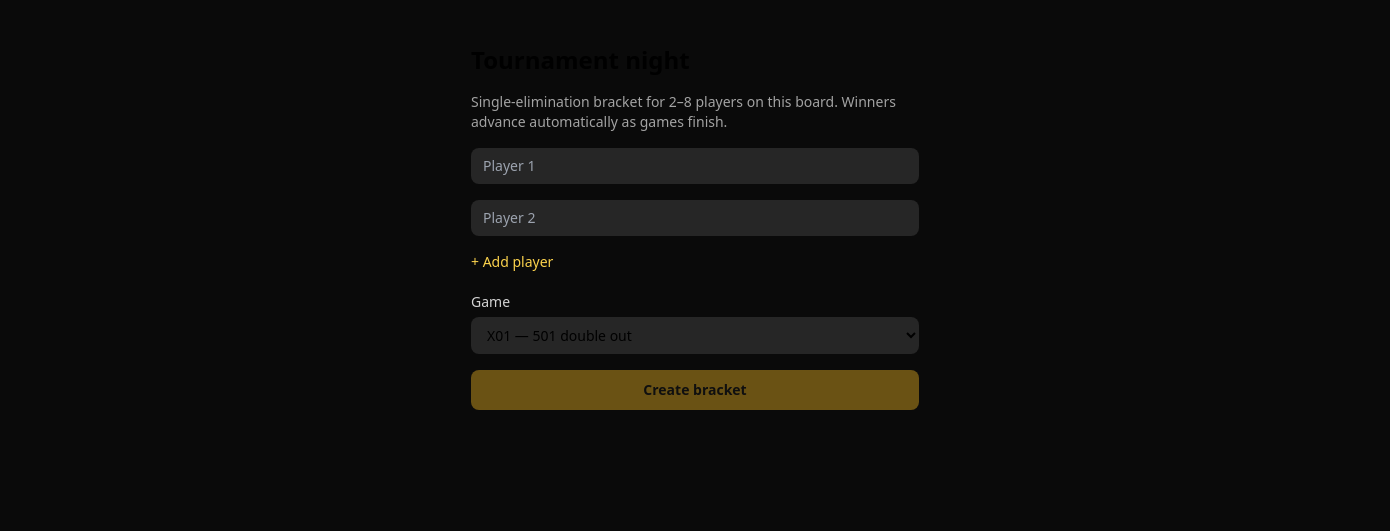
Test: Tournament setup › creates a bracket from the form
The width and height of the screenshot is (1390, 531).
Click the button "+ Add player": coordinates (512, 262) x1=471 y1=252 x2=553 y2=272
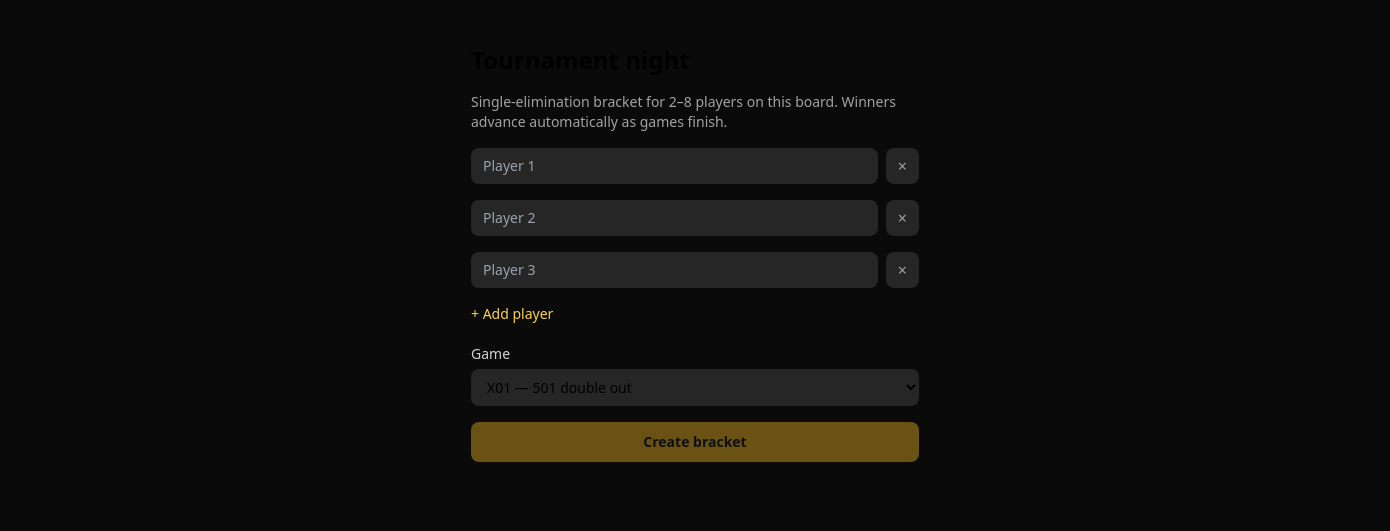
Click the button "+ Add player": coordinates (512, 314) x1=471 y1=304 x2=553 y2=324
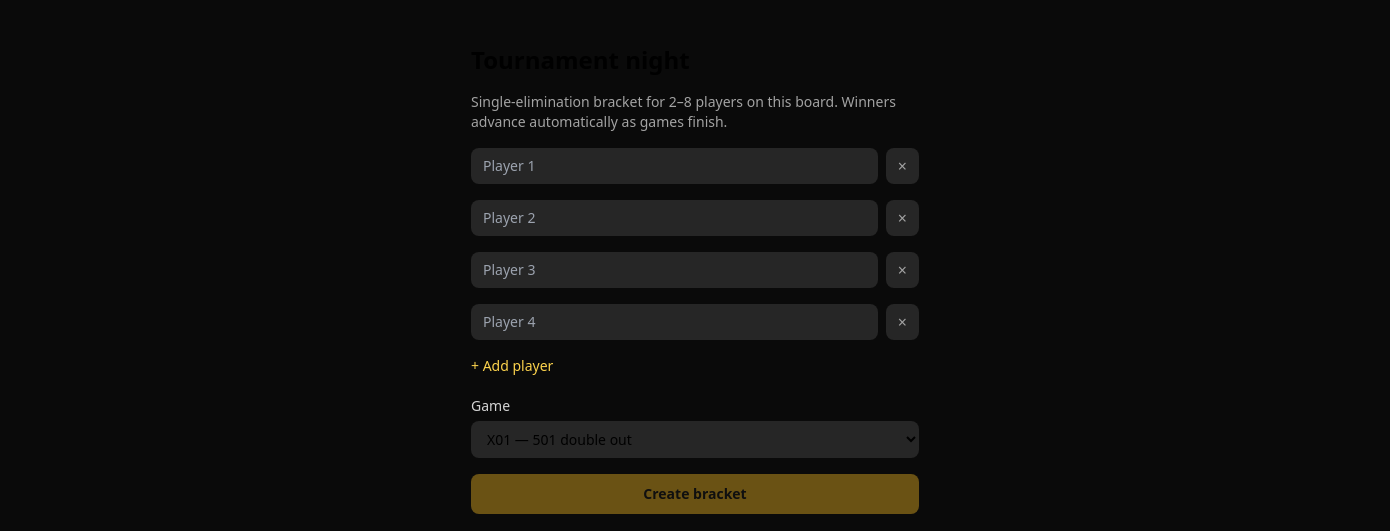
In the field with placeholder "Player 1": coordinates (674, 166) x1=471 y1=148 x2=878 y2=184, type "Ann"
In the field with placeholder "Player 2": coordinates (674, 218) x1=471 y1=200 x2=878 y2=236, type "Bo"
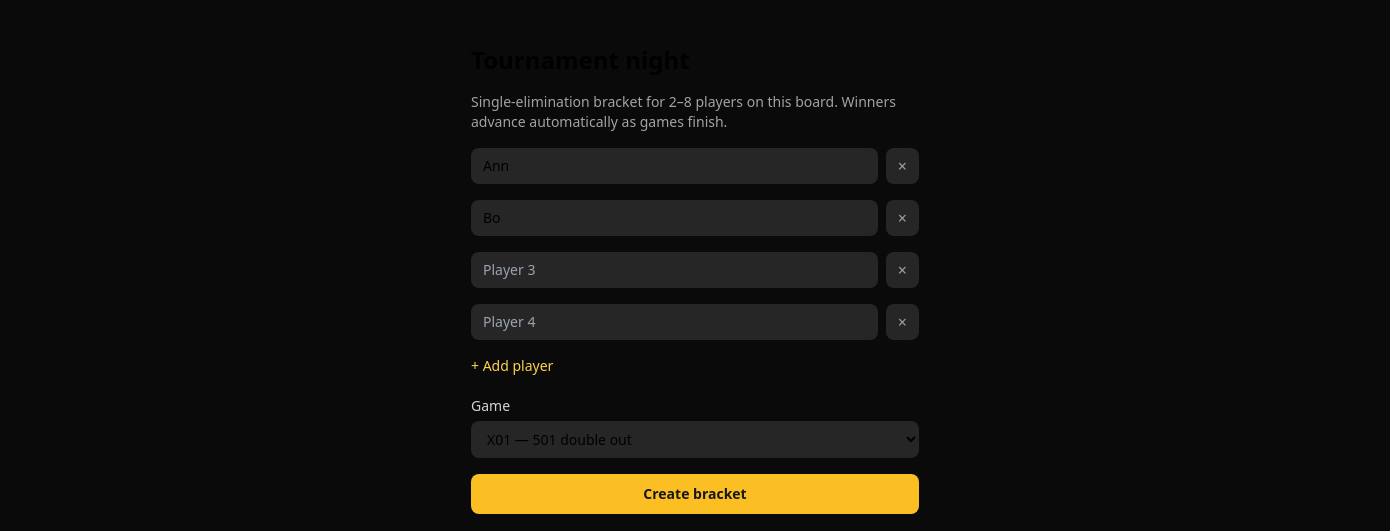
In the field with placeholder "Player 3": coordinates (674, 270) x1=471 y1=252 x2=878 y2=288, type "Cy"
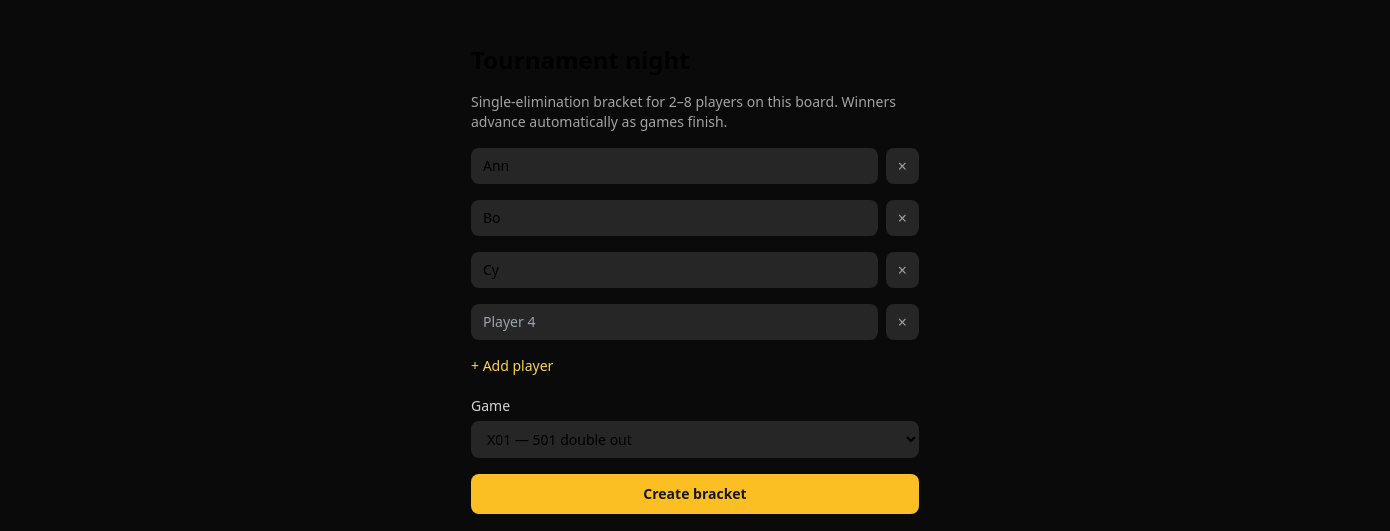
In the field with placeholder "Player 4": coordinates (674, 322) x1=471 y1=304 x2=878 y2=340, type "Di"
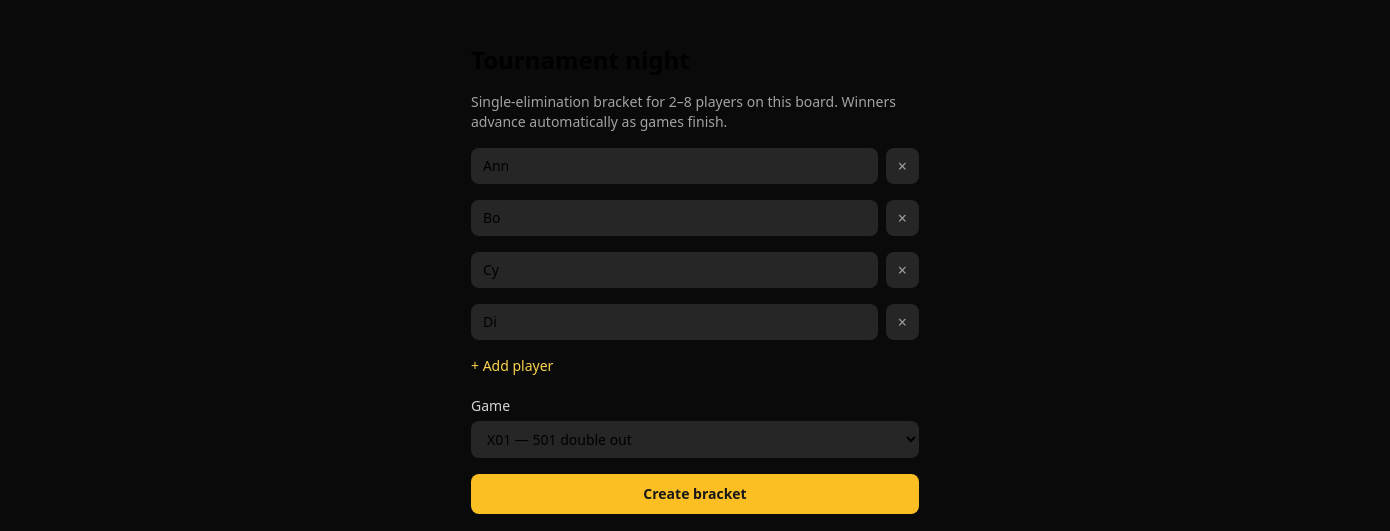
Click the button "Create bracket": coordinates (695, 494) x1=471 y1=474 x2=919 y2=514
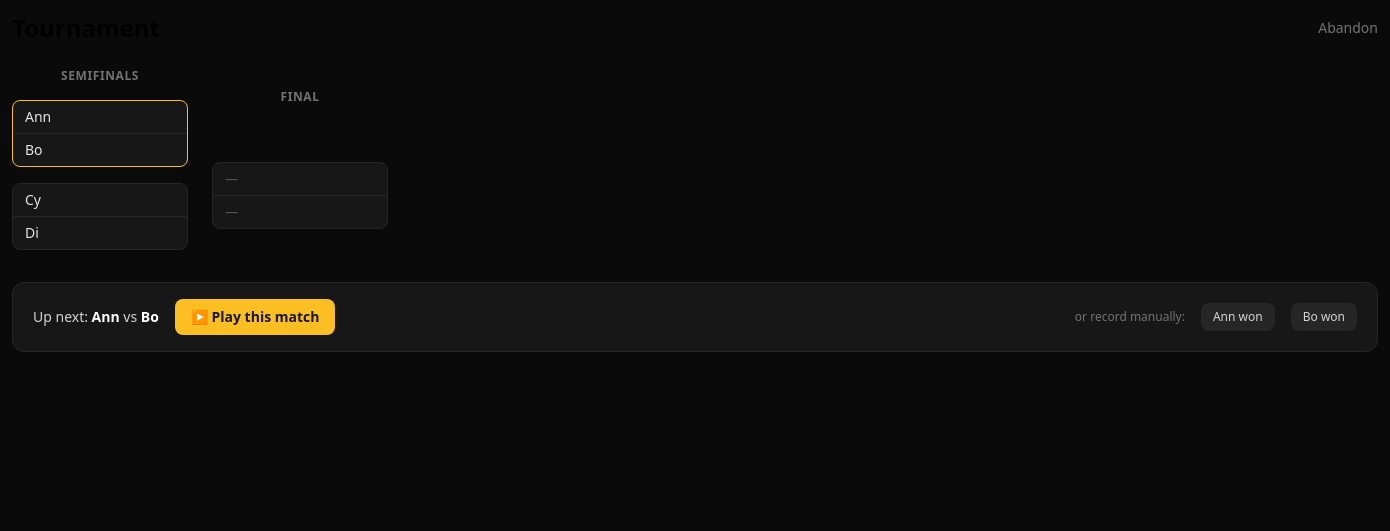
Check: the text "Up next: Ann vs Bo" is shown, box x1=33 y1=307 x2=159 y2=327
